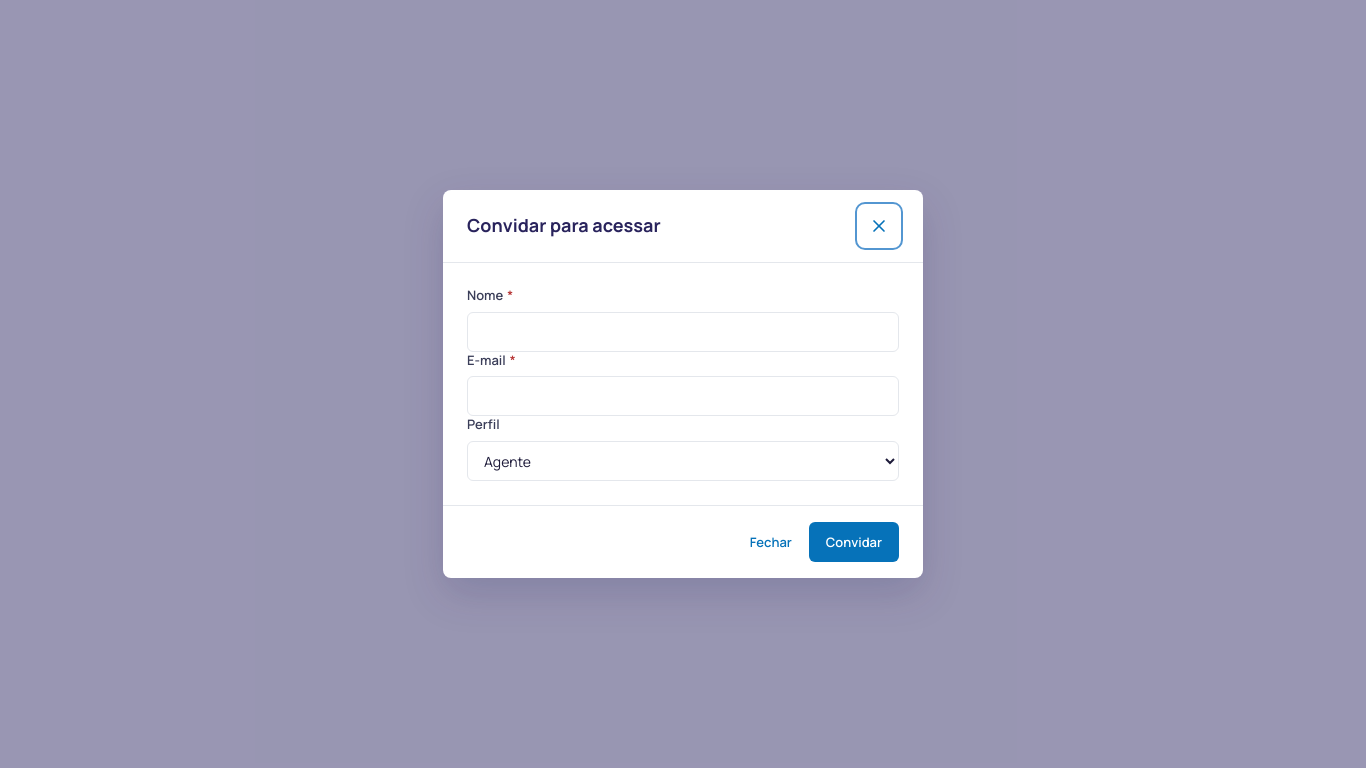
envia nome, e-mail e perfil para POST /auth/convites e mostra o toast de sucesso
In the field labelled "Nome *": (683, 332) [467, 312, 899, 352], type "Nova Pessoa"
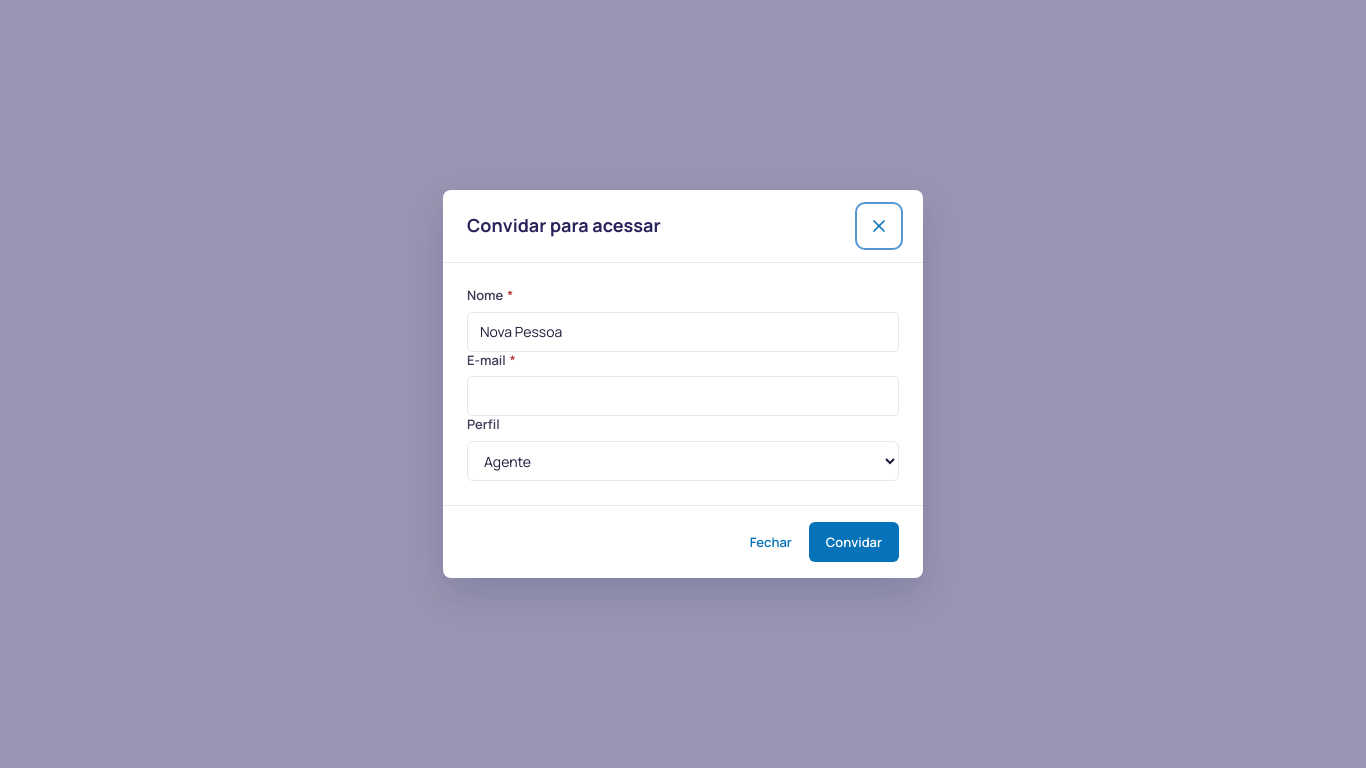
In the field labelled "E-mail *": (683, 396) [467, 376, 899, 416], type "nova@x.com"
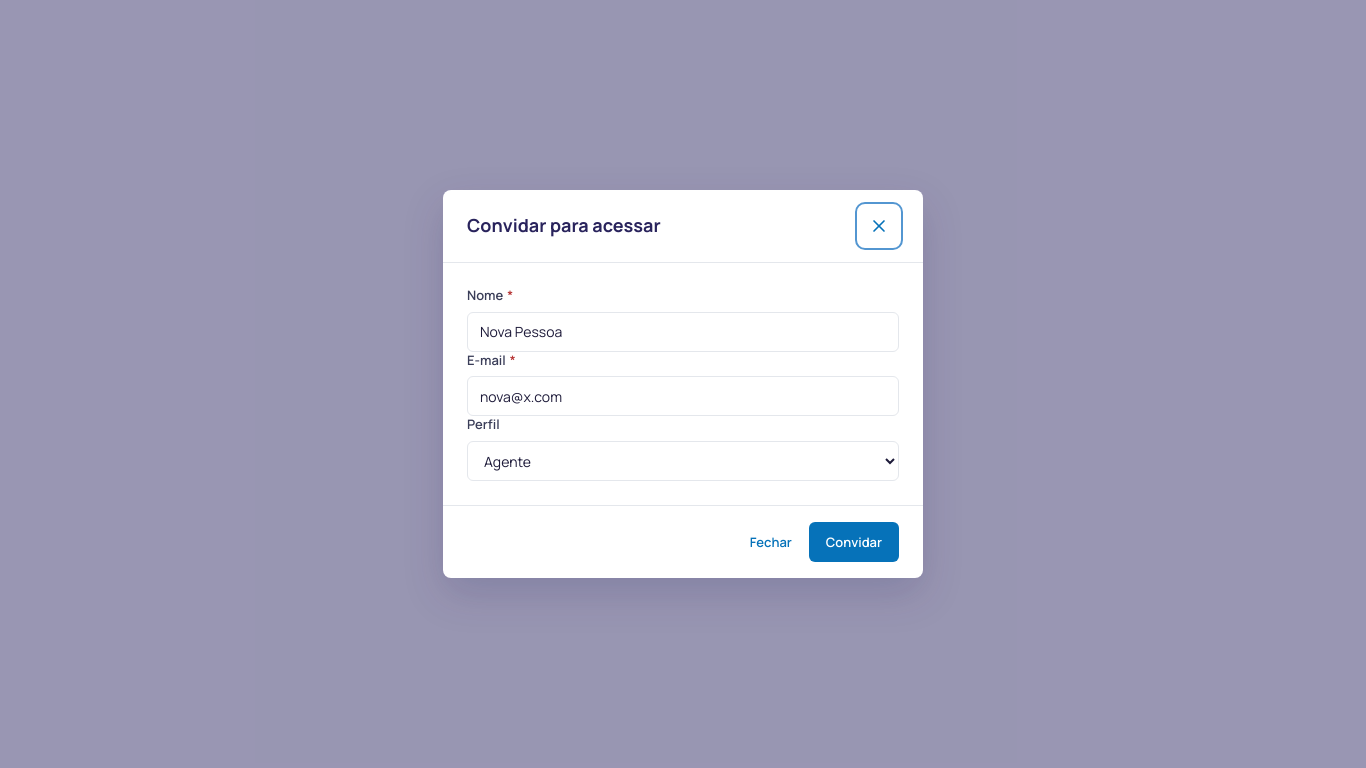
Select "Financeiro" in the dropdown labelled "Perfil": (683, 461) [467, 441, 899, 481]
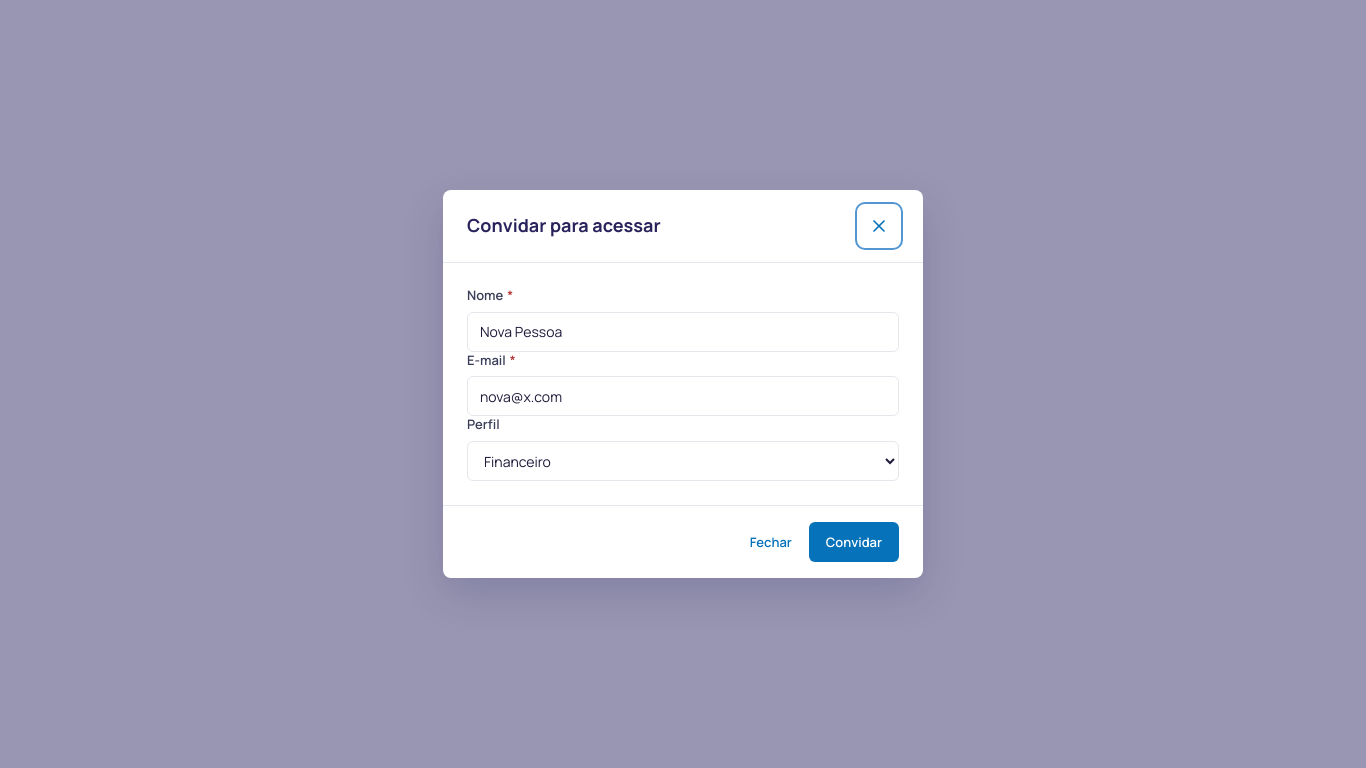
Click the button "Convidar": (854, 542) [809, 522, 899, 562]
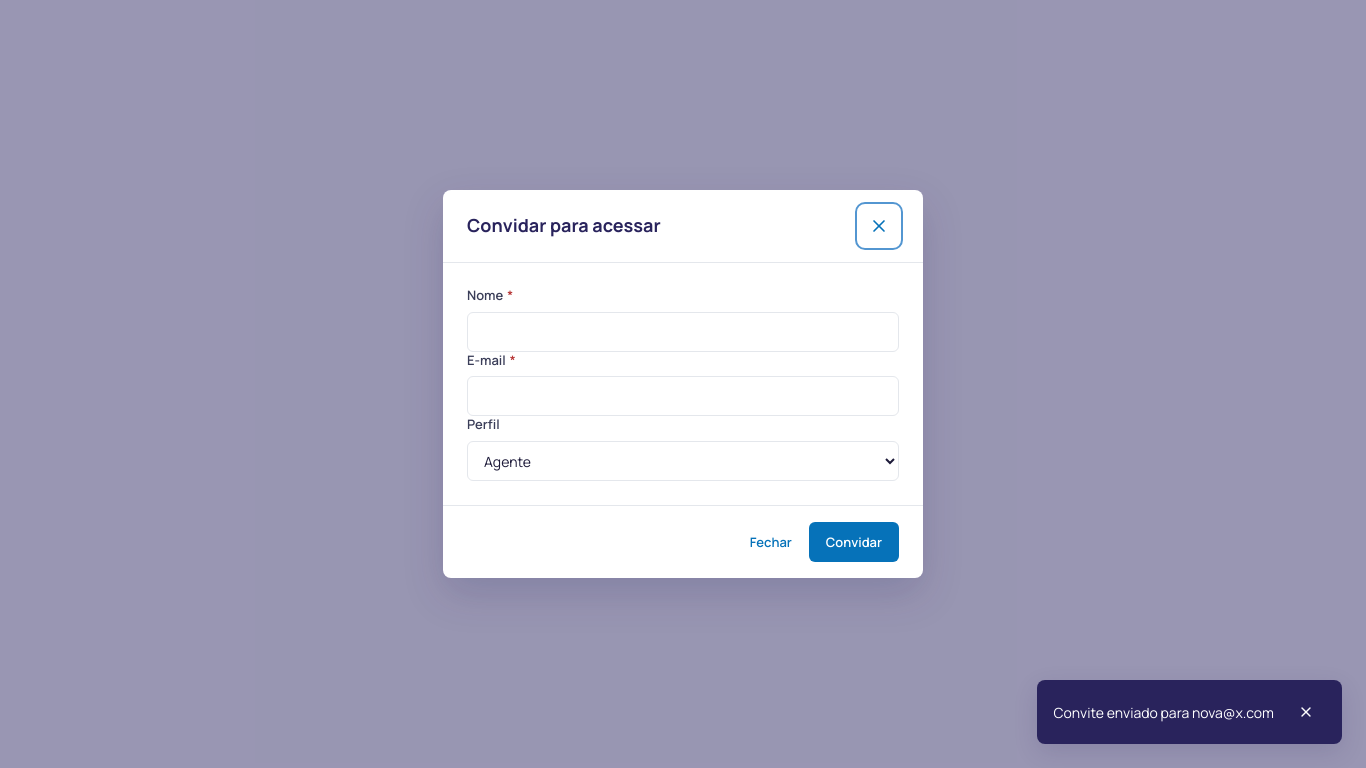
Now the text "Convite enviado para nova@x.com" is shown, box [1054, 702, 1274, 722]
